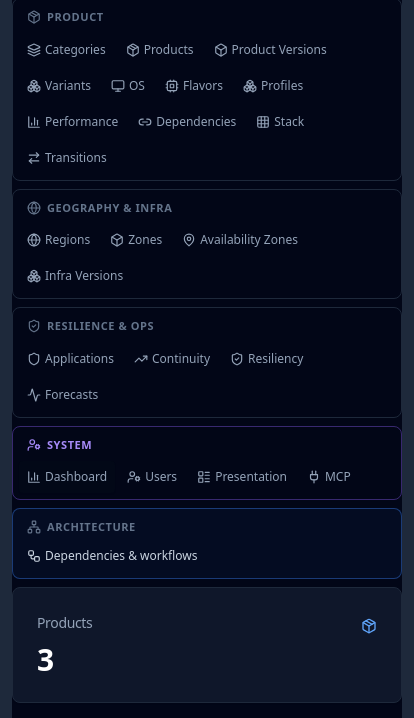
Test: Admin — Prisma Schema Refactor › OS Tab › switches to OS tab and shows OS data
Click the button "Product" at (75, 16), box [19, 5, 395, 30]
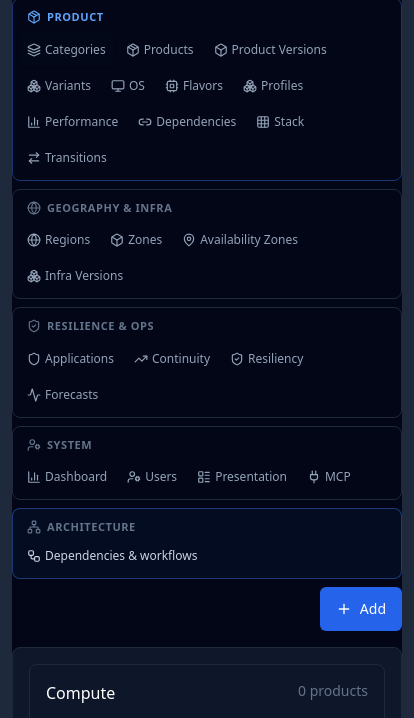
Click the button "OS" at (128, 86), box [103, 70, 153, 102]
(page scrolled)
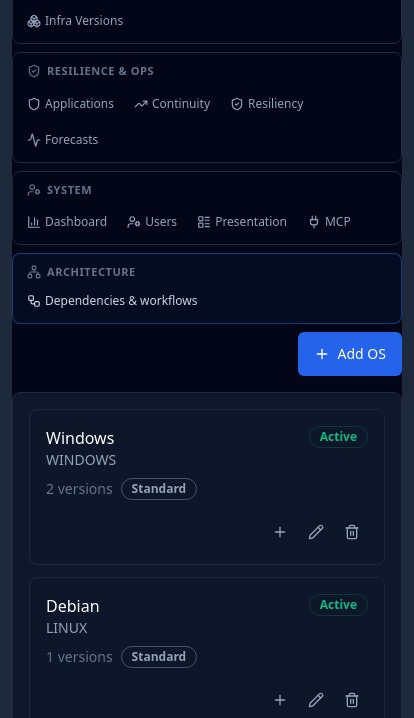
Check: the text "Windows" is shown, box [46, 426, 116, 450]
Check: the text "Debian" is shown, box [46, 594, 100, 618]
Check: the text "WINDOWS" is shown, box [46, 450, 116, 470]
